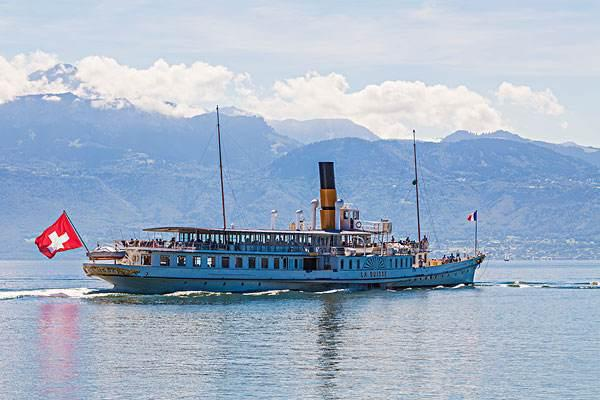youlun: (75, 159, 485, 294)
